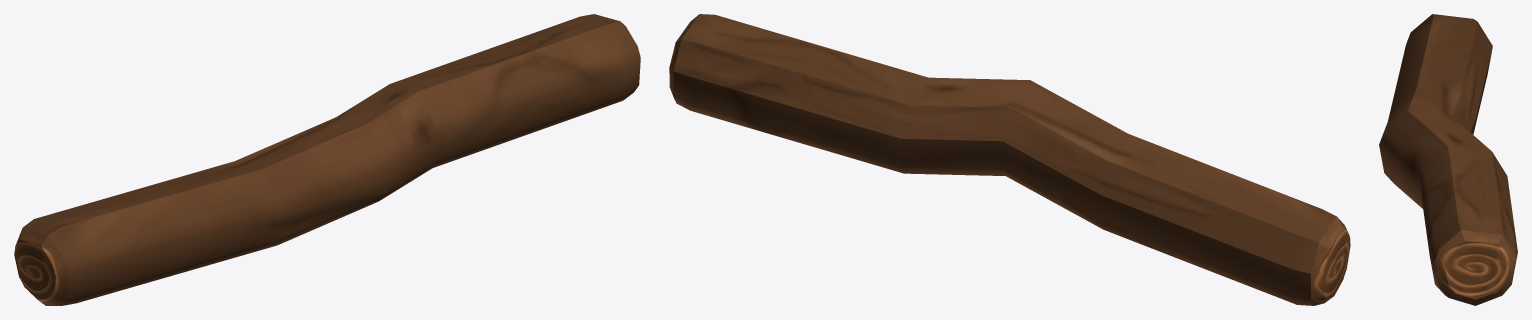
The model's file is log_2.FBX.
The picture shows the model from 3 angles, left to right: view 1: azimuth 30°, elevation 25°; view 2: azimuth 150°, elevation 25°; view 3: azimuth 270°, elevation 25°; orthographic projection. The views are drawn at different scales.
Visible parts, largest first — view 1: log_2; view 2: log_2; view 3: log_2.
Part boxes in pixels (box(x1,y1,x2,y2)): log_2: box(14, 14, 640, 305); log_2: box(669, 14, 1350, 305); log_2: box(1379, 14, 1517, 305).
Bounding box in the file's own units: 88.5 × 19.39 × 18.35.
